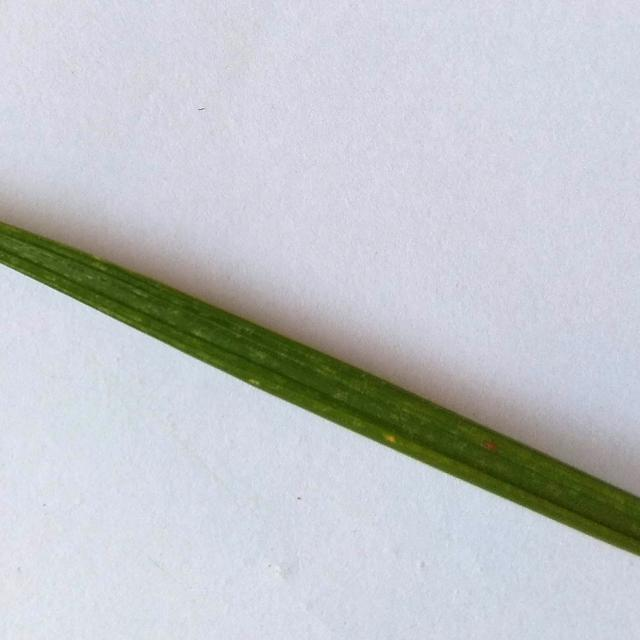brownspots: (480, 436, 505, 456)
